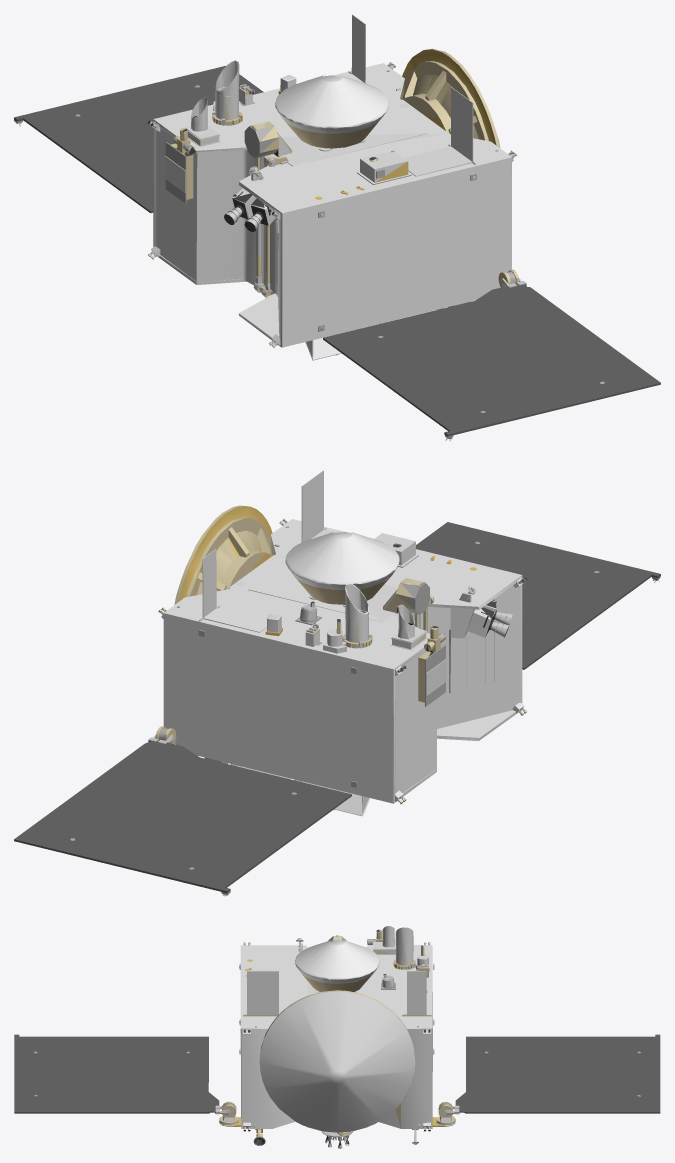
The model's file is osiris-rex.glb.
3 views of the same model, one above another, from view 1: azimuth 30°, elevation 25°; view 2: azimuth 150°, elevation 25°; view 3: azimuth 270°, elevation 25° (orthographic). The views are drawn at different scales.
Parts seen in each view (by area): view 1: body, solar-panel, foil; view 2: body, solar-panel, foil; view 3: body, solar-panel, foil.
Boxes of the visible parts, x1,y1,x2,y2 form: body: [14, 14, 604, 441]; solar-panel: [14, 66, 660, 436]; foil: [148, 49, 516, 347]; body: [70, 470, 660, 896]; solar-panel: [14, 522, 660, 893]; foil: [158, 506, 526, 803]; body: [34, 926, 640, 1148]; solar-panel: [14, 1034, 660, 1113]; foil: [223, 936, 445, 1145].
Size of the model in its own units: 13.72 by 12 by 34.63.
